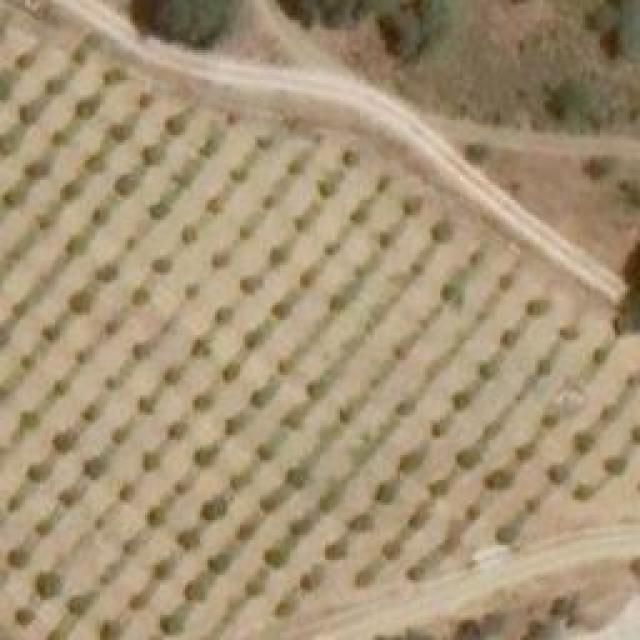Tree: (133, 0, 248, 55), (550, 73, 610, 135), (580, 0, 640, 58), (275, 0, 385, 30), (375, 8, 418, 58), (403, 0, 463, 35), (585, 155, 620, 183), (465, 132, 493, 164), (200, 495, 228, 523), (394, 393, 420, 422), (482, 470, 510, 493), (373, 477, 396, 505), (155, 615, 180, 640), (453, 617, 481, 639), (93, 260, 118, 283), (68, 290, 91, 315), (435, 280, 460, 303), (573, 430, 596, 455), (143, 505, 168, 528), (185, 580, 210, 603), (263, 545, 288, 568), (398, 450, 423, 473), (35, 573, 58, 598), (620, 180, 640, 208), (522, 493, 546, 516), (108, 123, 131, 146), (315, 178, 338, 201), (603, 455, 626, 478), (458, 448, 481, 471), (208, 553, 231, 576), (378, 542, 403, 563), (338, 147, 361, 169), (525, 298, 550, 318), (285, 408, 305, 433), (408, 510, 431, 531), (462, 501, 482, 525), (85, 153, 105, 176), (163, 115, 186, 135), (115, 175, 138, 195), (65, 235, 88, 255), (255, 440, 275, 463), (178, 528, 201, 548), (150, 560, 173, 580), (83, 458, 106, 478), (70, 593, 90, 616), (328, 292, 351, 312), (150, 200, 168, 223), (135, 393, 153, 416), (125, 595, 148, 613), (270, 597, 293, 615), (400, 565, 423, 583), (110, 425, 133, 443), (10, 545, 28, 568), (75, 98, 95, 118), (20, 105, 40, 125), (140, 145, 160, 165), (433, 223, 453, 243), (550, 463, 570, 483), (573, 483, 593, 503), (495, 525, 515, 545), (285, 468, 305, 488), (198, 445, 218, 465), (175, 475, 195, 495), (118, 483, 138, 503), (350, 513, 370, 533), (450, 390, 470, 410), (28, 460, 48, 480), (100, 620, 120, 640), (235, 520, 255, 540), (165, 421, 187, 438), (48, 127, 68, 145), (25, 162, 45, 180), (297, 268, 315, 288), (375, 230, 393, 250), (250, 390, 268, 410), (590, 347, 610, 365), (325, 540, 345, 558), (300, 570, 320, 588), (478, 360, 498, 378), (58, 432, 78, 450), (82, 403, 100, 423), (15, 607, 35, 625), (238, 275, 261, 290), (163, 363, 178, 386), (245, 330, 263, 348), (102, 67, 120, 85), (62, 182, 80, 200), (177, 225, 195, 243), (205, 197, 223, 215), (230, 167, 248, 185), (255, 135, 273, 153), (272, 302, 290, 320), (5, 190, 23, 208), (45, 325, 63, 343), (130, 342, 148, 360), (220, 365, 238, 383), (400, 200, 418, 218), (497, 330, 515, 348), (535, 357, 553, 375), (305, 380, 323, 398), (257, 495, 275, 513), (430, 420, 448, 438), (200, 138, 215, 158), (265, 248, 285, 263), (480, 425, 500, 440), (143, 450, 158, 470), (138, 92, 153, 110), (70, 47, 85, 65), (285, 160, 303, 175), (182, 283, 200, 298), (152, 258, 170, 273), (215, 308, 233, 323), (32, 213, 50, 228), (130, 290, 148, 305), (192, 340, 210, 355), (193, 392, 208, 410), (222, 420, 240, 435), (375, 177, 390, 195), (560, 325, 578, 340), (512, 445, 530, 460), (430, 480, 448, 495), (233, 470, 248, 488), (242, 580, 260, 595), (63, 487, 78, 505), (20, 413, 38, 428), (48, 78, 63, 93), (18, 55, 33, 70), (210, 253, 225, 268), (350, 208, 365, 223), (53, 380, 68, 395), (103, 375, 118, 390), (278, 360, 293, 375), (468, 253, 483, 268), (498, 275, 513, 290), (600, 408, 615, 423)
